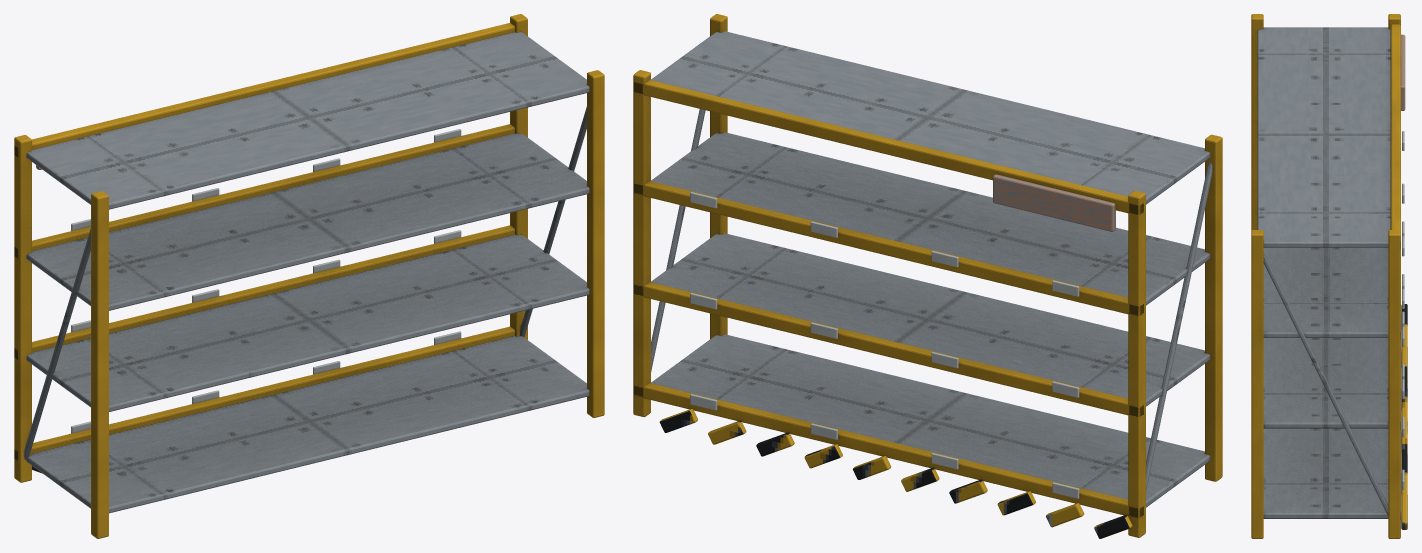
Rendered from base_rack_weapon.glb.
The picture shows the model from 3 angles, left to right: view 1: azimuth 30°, elevation 25°; view 2: azimuth 150°, elevation 25°; view 3: azimuth 270°, elevation 25°; orthographic projection. The views are drawn at different scales.
Visible parts, largest first — view 1: base_rack_weapon.002; view 2: base_rack_weapon.002; view 3: base_rack_weapon.002.
Boxes of the visible parts, x1,y1,x2,y2 form: base_rack_weapon.002: (14,14,604,538); base_rack_weapon.002: (633,14,1222,538); base_rack_weapon.002: (1251,14,1407,538).
Bounding box in the file's own units: 4.2 × 2.75 × 1.25.
5 materials, 5 textured.
